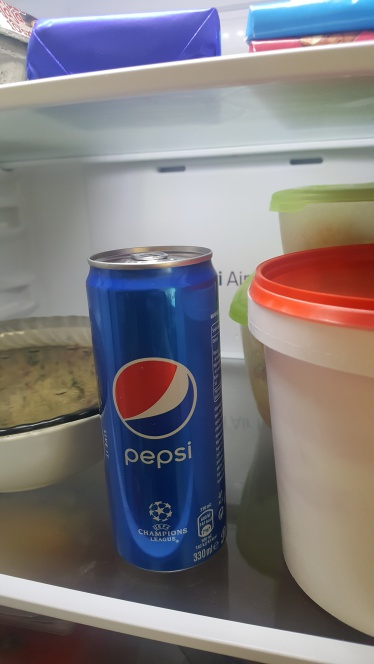pepsi: (82, 231, 233, 587)
